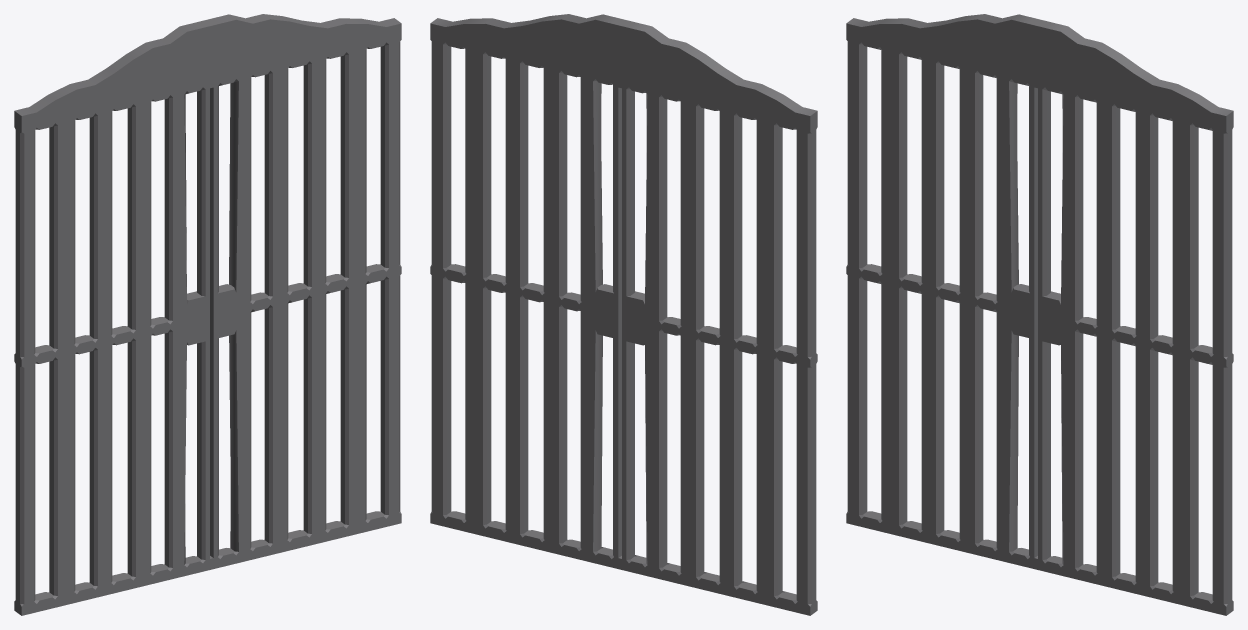
File: PuertaHierro.fbx
3 renders of one model, left to right at view 1: azimuth 30°, elevation 25°; view 2: azimuth 150°, elevation 25°; view 3: azimuth 330°, elevation 25°, orthographic.
Visible parts, largest first — view 1: PuertaHierro; view 2: PuertaHierro; view 3: PuertaHierro.
Part boxes in pixels (box(x1,y1,x2,y2)): PuertaHierro: box(14, 14, 401, 615); PuertaHierro: box(430, 14, 817, 615); PuertaHierro: box(846, 14, 1233, 615).
Bounding box in the file's own units: 2.97 × 4.06 × 0.1.
